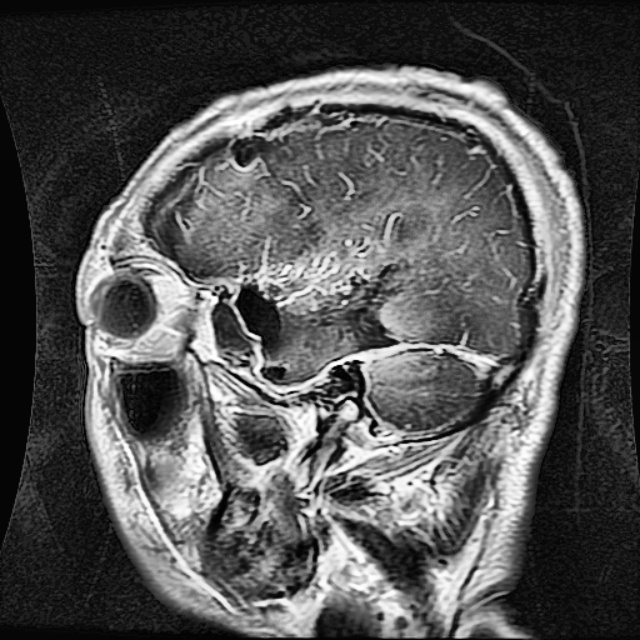Meningioma: (233, 274, 392, 387)
